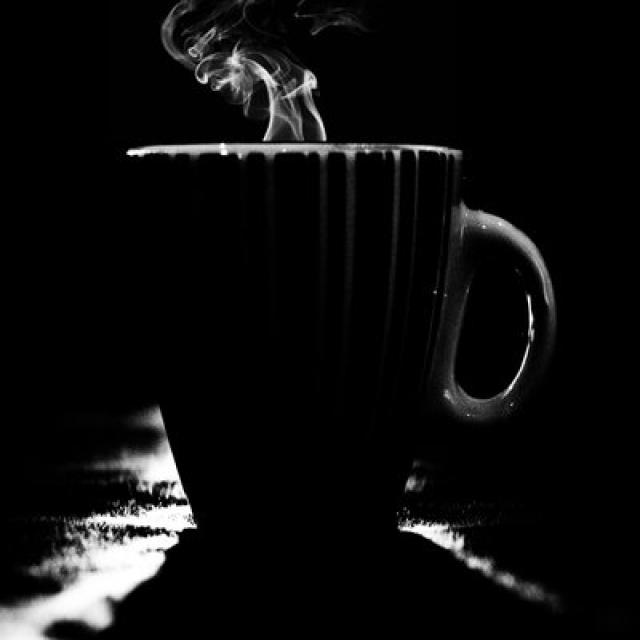Cup: (116, 86, 557, 587)
